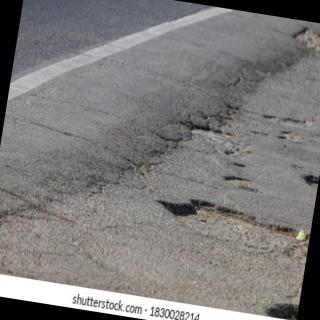pothole: (156, 200, 307, 240)
